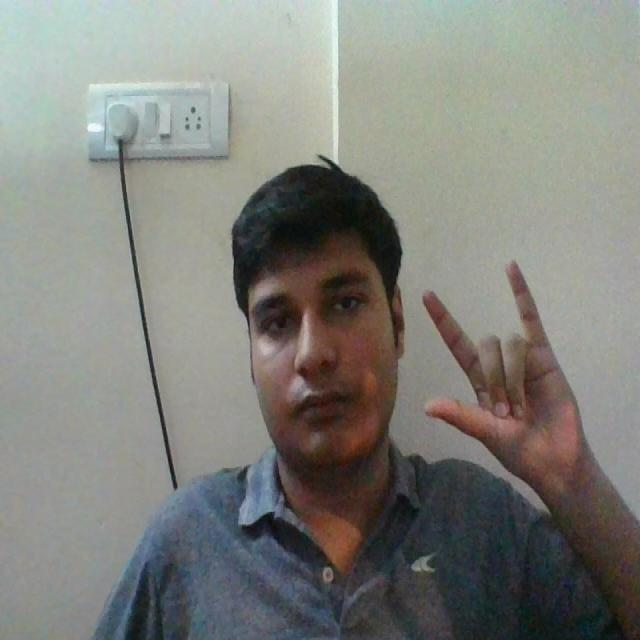I love you: (407, 285, 592, 509)
